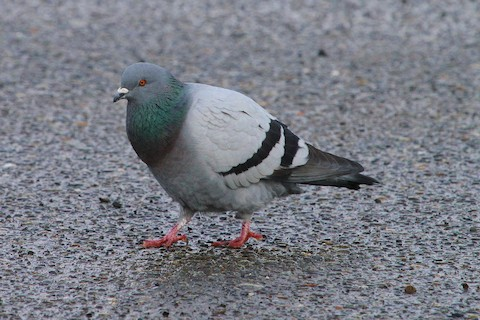pigeon: (109, 58, 383, 253)
